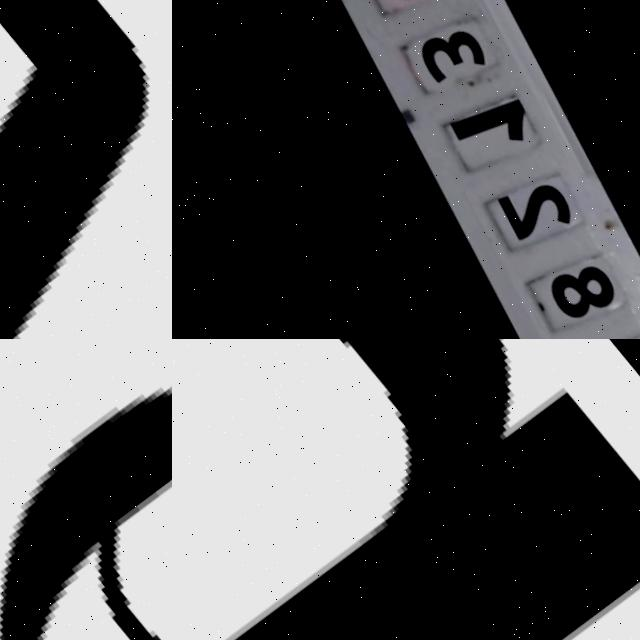0: (348, 0, 470, 32)
1: (426, 63, 558, 189)
2: (467, 142, 595, 266)
3: (385, 0, 514, 110)
7: (546, 299, 640, 339)
8: (509, 221, 640, 339)
9: (0, 339, 172, 640)
R: (172, 339, 640, 640)
